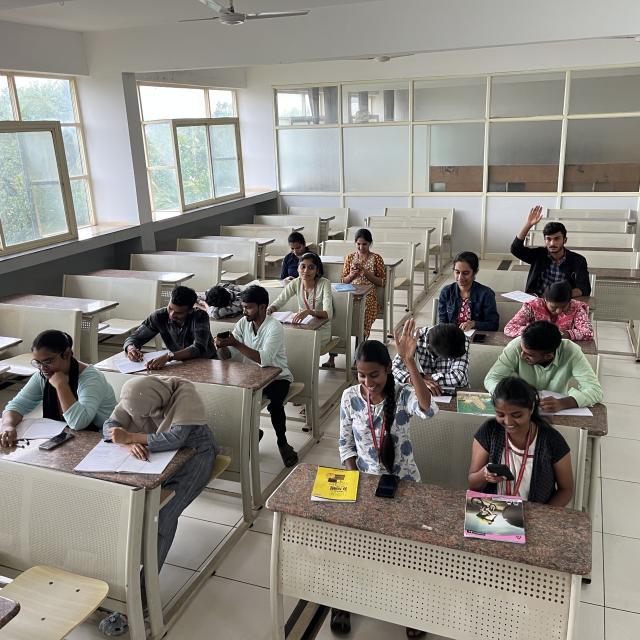Hand Rising: (340, 320, 433, 450), (508, 205, 580, 286)
Reading: (0, 322, 99, 435), (488, 317, 601, 413), (508, 280, 595, 342)
Sleeping: (411, 320, 475, 380), (197, 278, 253, 318)
Using Phone: (467, 374, 565, 488), (336, 228, 386, 284)
Writing: (120, 285, 212, 371)
